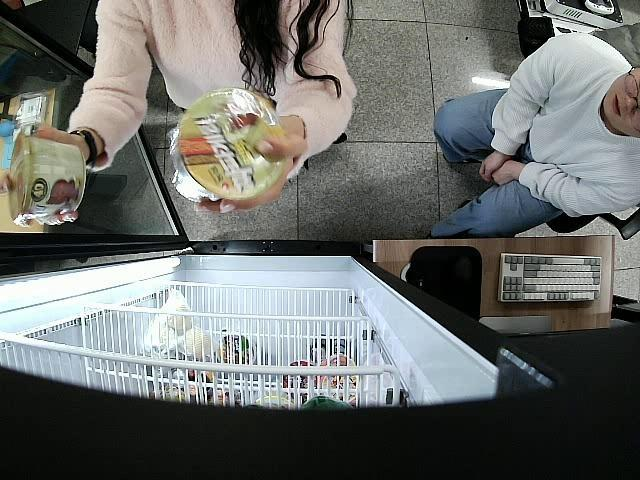04_chapagetti_S: (168, 89, 284, 205), (7, 133, 88, 226)
